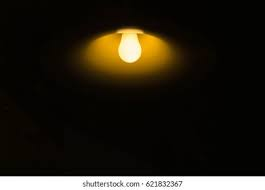bulb: (103, 26, 150, 76)
